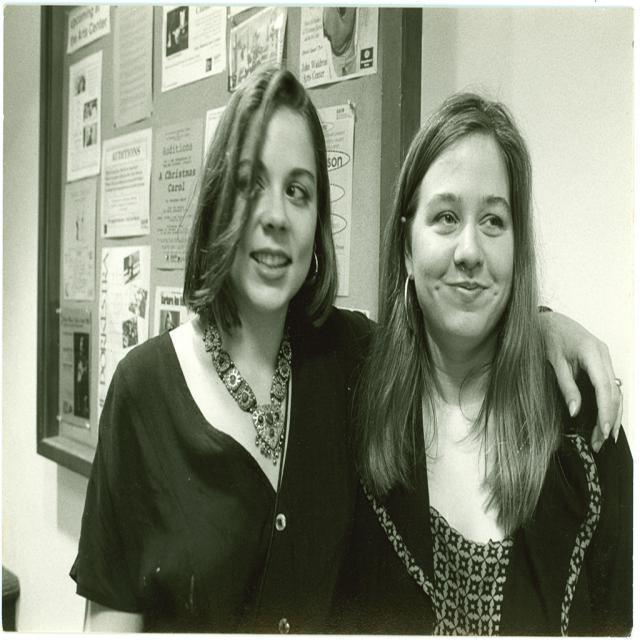closed-mouth: (446, 282, 489, 300)
